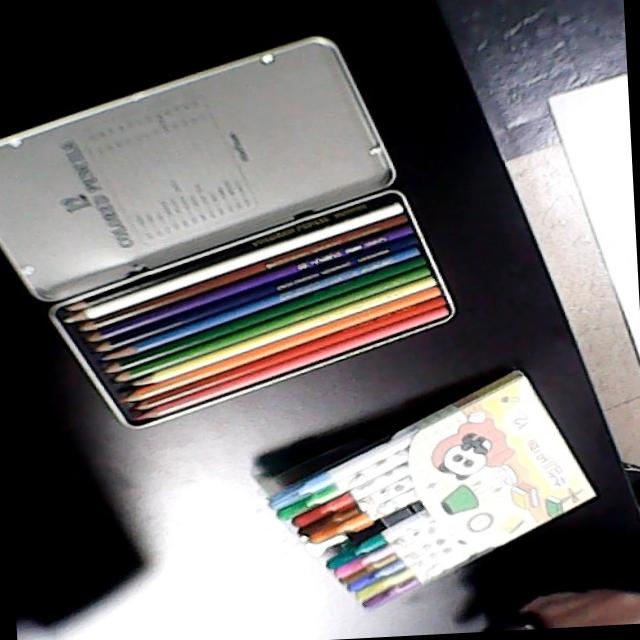color: (37, 181, 461, 439)
signpen: (246, 361, 605, 620)
